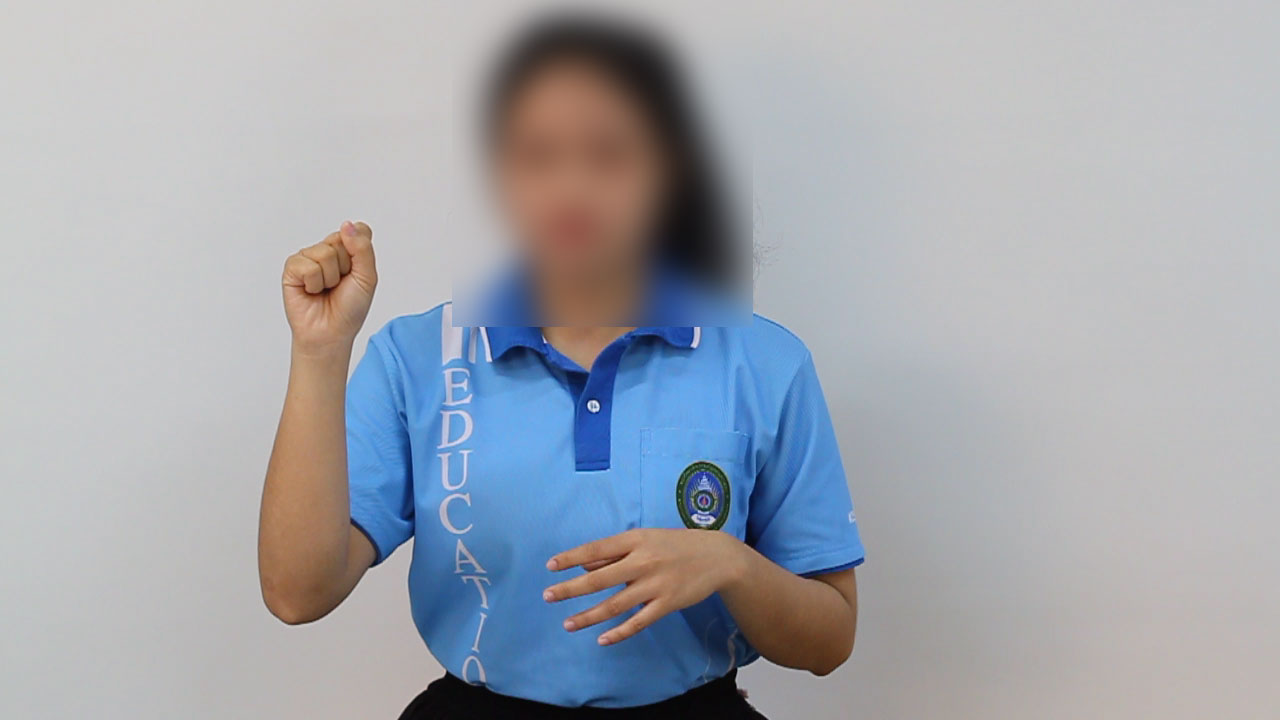sor: (264, 199, 386, 360)
